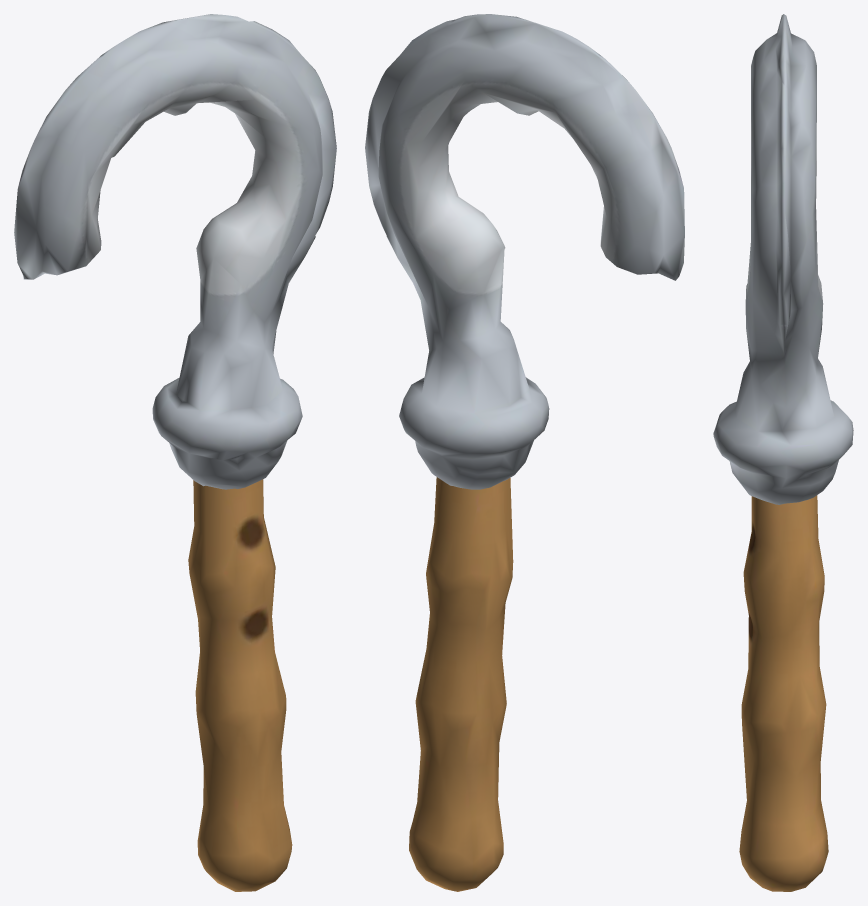
The model's file is sickle.glb.
3 views of the same model, side by side, from view 1: azimuth 30°, elevation 25°; view 2: azimuth 150°, elevation 25°; view 3: azimuth 270°, elevation 25° (orthographic). The views are drawn at different scales.
Parts seen in each view (by area): view 1: handle; view 2: handle; view 3: handle.
Part boxes in pixels (x1,y1,x2,y2): handle: [14, 14, 336, 891]; handle: [365, 14, 684, 891]; handle: [713, 14, 853, 891].
Size of the model in its own units: 0.3679 by 0.9664 by 0.1488.
1 material, 1 textured.
